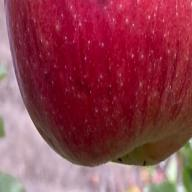Apples: (3, 0, 191, 166)
